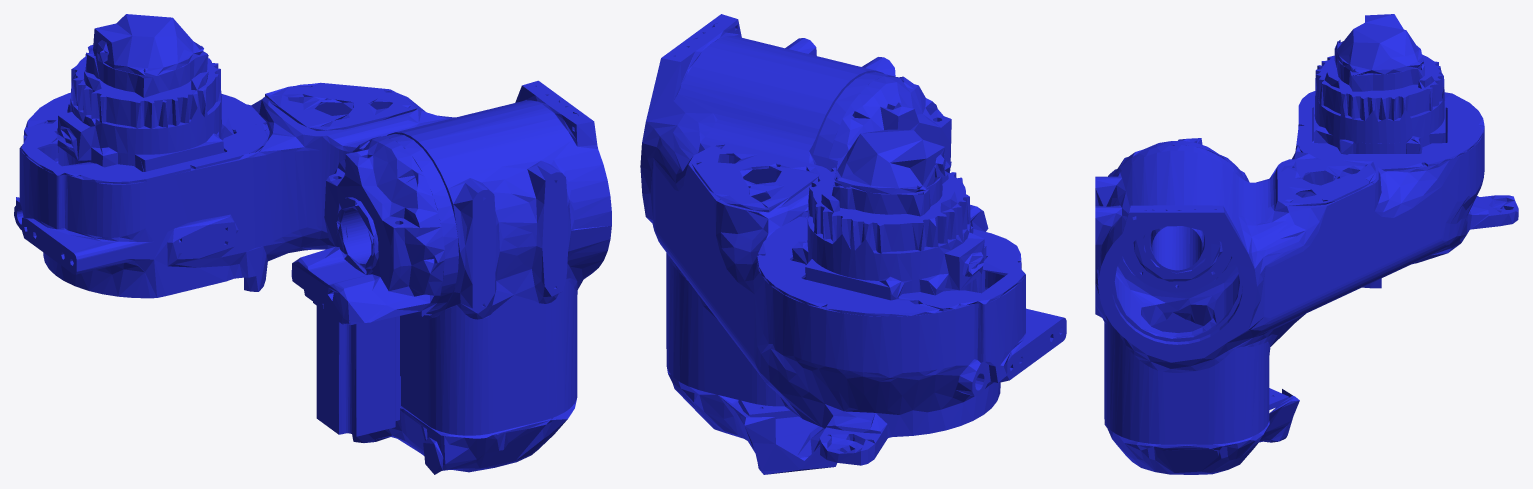
3 views of the same model, side by side, from view 1: azimuth 30°, elevation 25°; view 2: azimuth 150°, elevation 25°; view 3: azimuth 270°, elevation 25° (orthographic). The views are drawn at different scales.
Visible parts, largest first — view 1: /Link3/Link3_001-mesh/0; view 2: /Link3/Link3_001-mesh/0; view 3: /Link3/Link3_001-mesh/0.
Part boxes in pixels (<box>): /Link3/Link3_001-mesh/0: <box>14,14,611,474</box>; /Link3/Link3_001-mesh/0: <box>640,14,1066,474</box>; /Link3/Link3_001-mesh/0: <box>1095,14,1518,474</box>.
Size of the model in its own units: 0.409 by 0.3655 by 0.4182.
